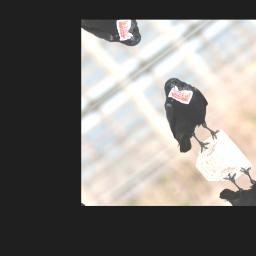Crow: (137, 69, 235, 164)
